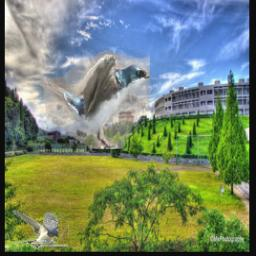Swallow: (41, 51, 151, 150), (9, 209, 59, 250)
